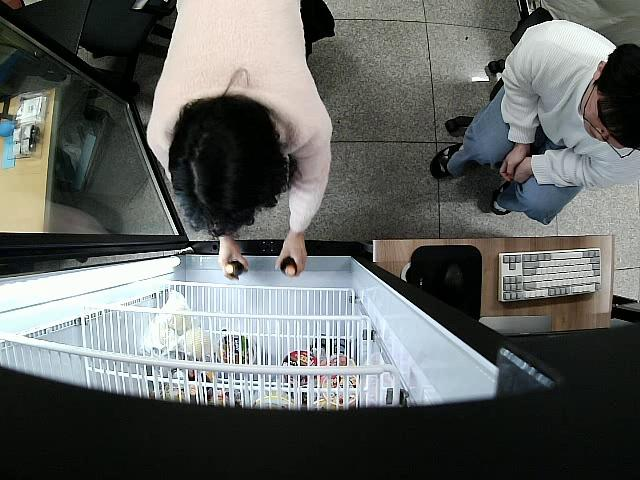00_hand: (272, 241, 309, 278), (218, 243, 249, 281)
17_vita500: (278, 255, 299, 279), (225, 261, 247, 281)
